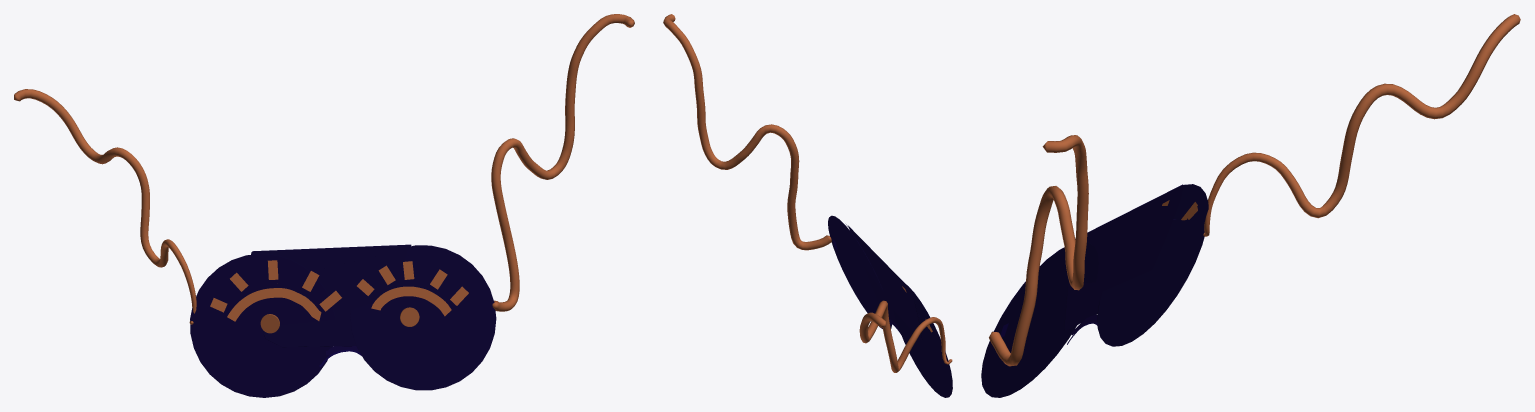
3 views of the same model, side by side, from view 1: azimuth 30°, elevation 25°; view 2: azimuth 150°, elevation 25°; view 3: azimuth 270°, elevation 25° (orthographic). The views are drawn at different scales.
Parts seen in each view (by area): view 1: brush_UnlitHull_g1_b0, brush_Icing_g1_b0, brush_Flat_g1_b0; view 2: brush_UnlitHull_g1_b0, brush_Icing_g1_b0; view 3: brush_UnlitHull_g1_b0, brush_Icing_g1_b0.
Boxes of the visible parts, box(x1,y1,x2,y2) form: brush_UnlitHull_g1_b0: box(190, 244, 496, 397); brush_Icing_g1_b0: box(14, 14, 634, 324); brush_Flat_g1_b0: box(210, 260, 468, 367); brush_UnlitHull_g1_b0: box(828, 215, 952, 397); brush_Icing_g1_b0: box(663, 14, 952, 372); brush_UnlitHull_g1_b0: box(981, 184, 1208, 397); brush_Icing_g1_b0: box(989, 14, 1520, 366).
Size of the model in its own units: 3.72 by 2.64 by 3.2.
